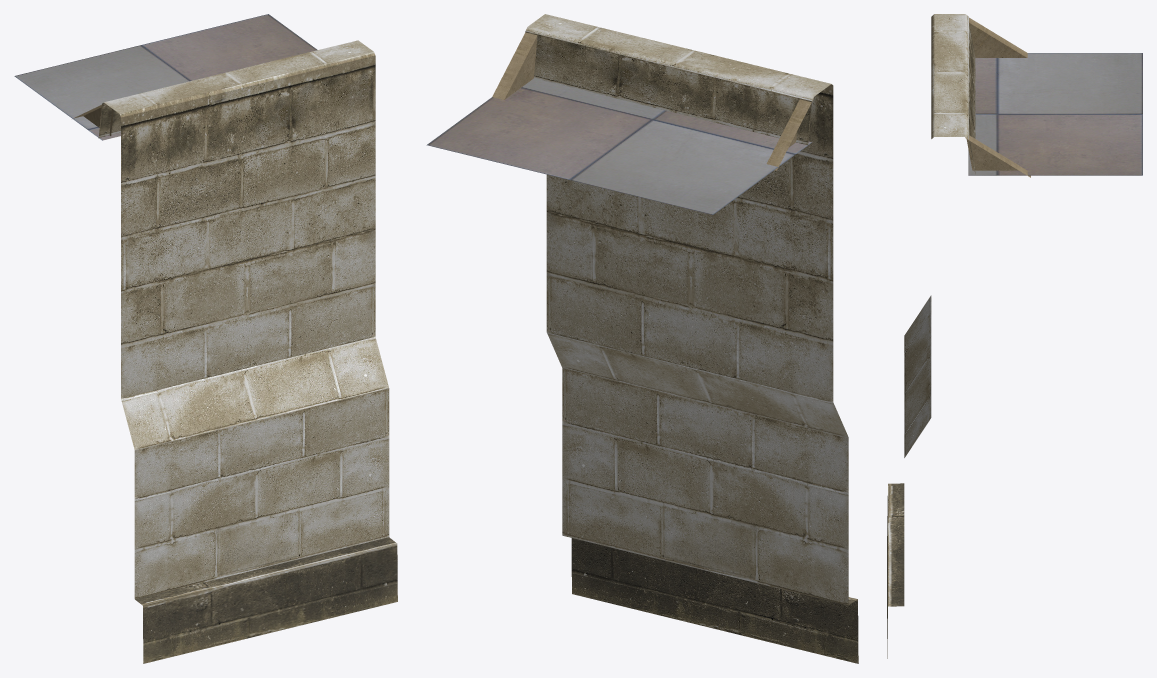
Rendered from castle-wall.fbx.
3 renders of one model, left to right at view 1: azimuth 30°, elevation 25°; view 2: azimuth 150°, elevation 25°; view 3: azimuth 270°, elevation 25°, orthographic. The views are drawn at different scales.
Visible parts, largest first — view 1: castle-wall; view 2: castle-wall; view 3: castle-wall.
Part boxes in pixels (x1,y1,x2,y2): castle-wall: [14, 14, 397, 663]; castle-wall: [426, 14, 858, 663]; castle-wall: [887, 14, 1142, 658].
Size of the model in its own units: 200 by 400 by 176.
